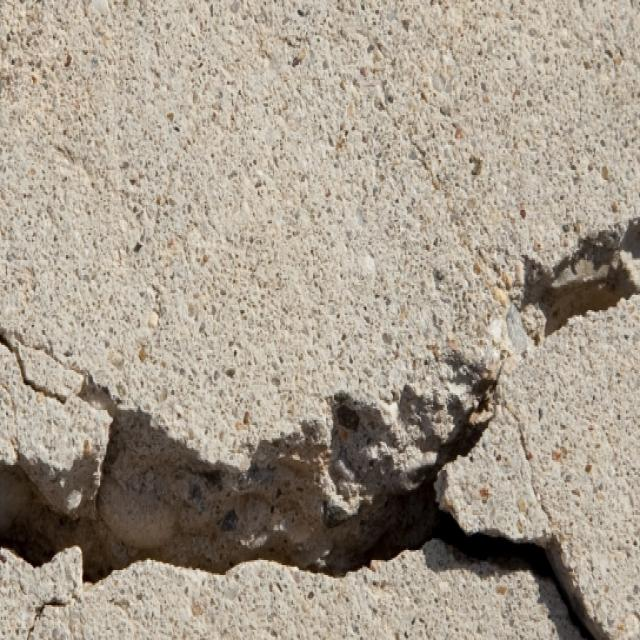spall: (0, 218, 638, 638)
